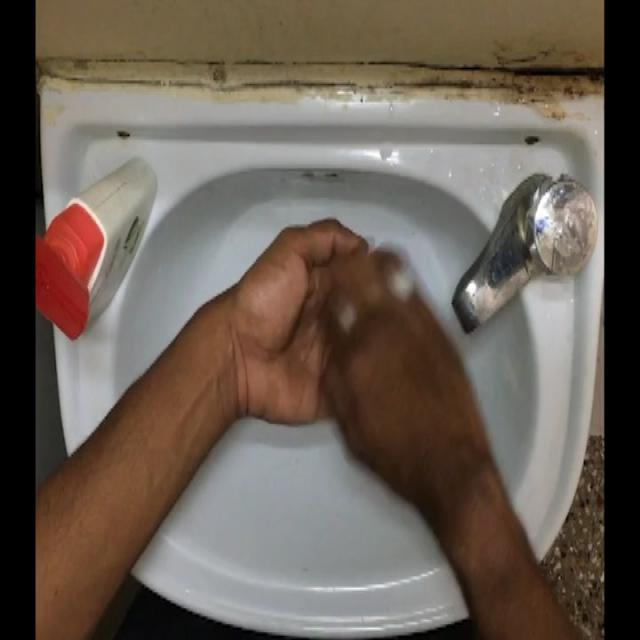step_4: (230, 213, 482, 455)
